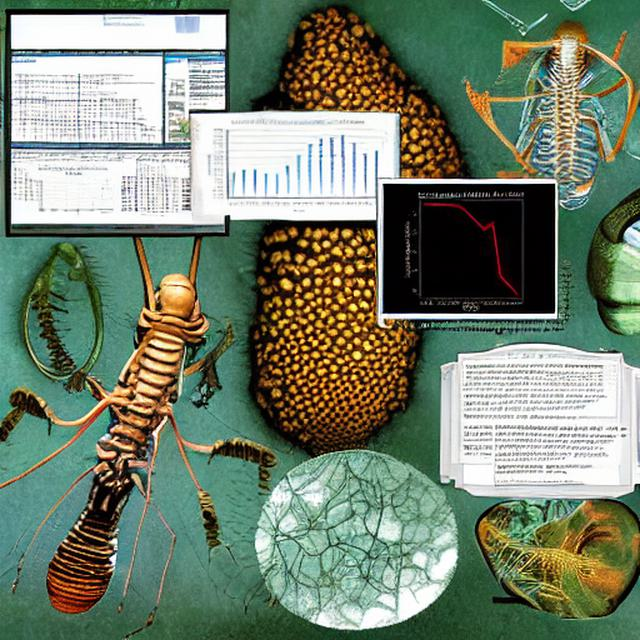Graph: (383, 184, 555, 313), (202, 115, 374, 214), (28, 165, 119, 220)
